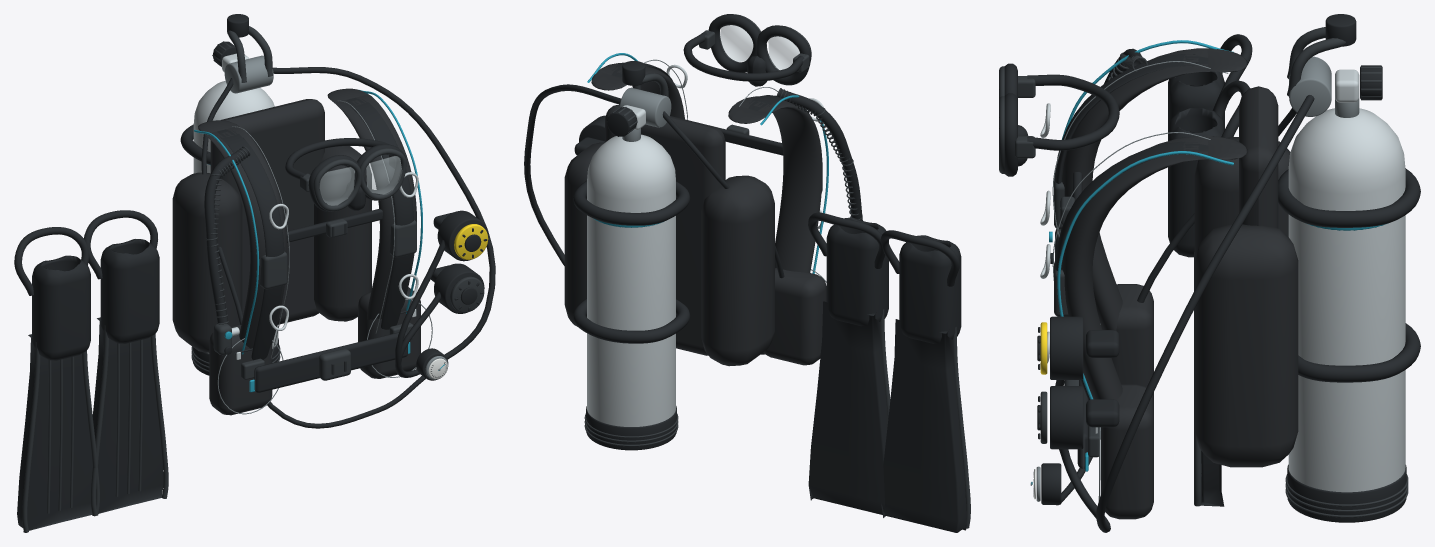
Rendered from scuba-kit.glb.
3 renders of one model, left to right at view 1: azimuth 30°, elevation 25°; view 2: azimuth 150°, elevation 25°; view 3: azimuth 270°, elevation 25°, orthographic. The views are drawn at different scales.
Parts seen in each view (by area): view 1: gear_bc__Woven graphite nylon, gear_fins__Soft black silicone, gear_bc__Soft black silicone, gear_regulator__Soft black silicone, gear_fins__Satin graphite polymer, gear_bc__Satin graphite polymer, gear_mask__Soft black silicone, gear_tank__Brushed aluminium, gear_mask__Optical glass, gear_mask__Satin graphite polymer, gear_regulator__Satin graphite polymer, gear_bc__Ocean blue trim (+5 smaller); view 2: gear_fins__Soft black silicone, gear_bc__Woven graphite nylon, gear_tank__Brushed aluminium, gear_tank__Soft black silicone, gear_mask__Soft black silicone, gear_regulator__Soft black silicone, gear_bc__Soft black silicone, gear_mask__Optical glass, gear_fins__Satin graphite polymer, gear_regulator__Dark stainless fittings, gear_tank__Satin graphite polymer, gear_bc__Satin graphite polymer (+2 smaller); view 3: gear_bc__Woven graphite nylon, gear_tank__Brushed aluminium, gear_regulator__Soft black silicone, gear_tank__Soft black silicone, gear_fins__Soft black silicone, gear_bc__Soft black silicone, gear_mask__Soft black silicone, gear_bc__Satin graphite polymer, gear_regulator__Dark stainless fittings, gear_bc__Ocean blue trim, gear_regulator__Satin graphite polymer, gear_tank__Satin graphite polymer (+4 smaller).
Part boxes in pixels (x1,y1,x2,y2): gear_bc__Woven graphite nylon: (172,88,420,415); gear_fins__Soft black silicone: (14,210,163,532); gear_bc__Soft black silicone: (204,97,417,392); gear_regulator__Soft black silicone: (201,14,495,428); gear_fins__Satin graphite polymer: (22,325,168,532); gear_bc__Satin graphite polymer: (206,146,416,380); gear_mask__Soft black silicone: (285,138,405,211); gear_tank__Brushed aluminium: (193,53,278,353); gear_mask__Optical glass: (319,156,402,205); gear_mask__Satin graphite polymer: (300,148,406,211); gear_regulator__Satin graphite polymer: (227,26,484,377); gear_bc__Ocean blue trim: (194,90,422,392); gear_fins__Soft black silicone: (808,212,966,532); gear_bc__Woven graphite nylon: (564,62,826,366); gear_tank__Brushed aluminium: (587,105,675,426); gear_tank__Soft black silicone: (573,107,690,450); gear_mask__Soft black silicone: (683,14,810,86); gear_regulator__Soft black silicone: (524,61,784,354); gear_bc__Soft black silicone: (611,62,862,220); gear_mask__Optical glass: (720,25,799,69); gear_fins__Satin graphite polymer: (880,309,970,528); gear_regulator__Dark stainless fittings: (619,87,671,127); gear_tank__Satin graphite polymer: (584,107,678,446); gear_bc__Satin graphite polymer: (726,88,862,219); gear_bc__Woven graphite nylon: (1062,48,1298,519); gear_tank__Brushed aluminium: (1288,69,1405,492); gear_regulator__Soft black silicone: (1037,14,1356,532); gear_tank__Soft black silicone: (1278,65,1420,522); gear_fins__Soft black silicone: (1168,34,1252,506); gear_bc__Soft black silicone: (1050,48,1208,468); gear_mask__Soft black silicone: (1004,63,1119,176); gear_bc__Satin graphite polymer: (1054,52,1147,457); gear_regulator__Dark stainless fittings: (1030,56,1331,501); gear_bc__Ocean blue trim: (1049,40,1233,471); gear_regulator__Satin graphite polymer: (1033,27,1345,496); gear_tank__Satin graphite polymer: (1285,65,1408,517).
Size of the model in its own units: 1.17 by 1.03 by 0.6923.
